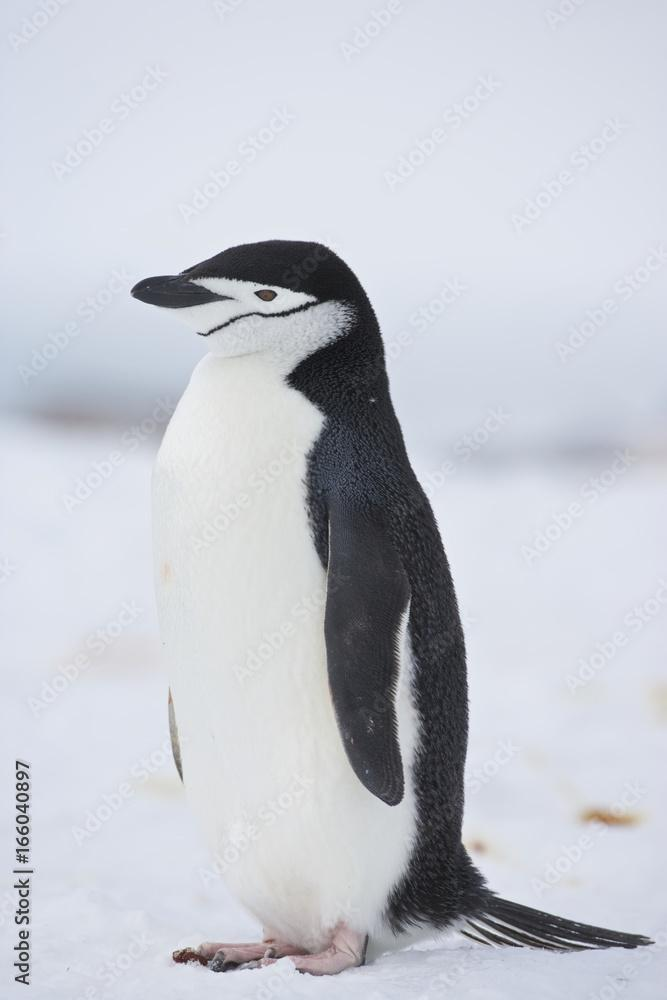Penguin: (130, 239, 650, 976)
